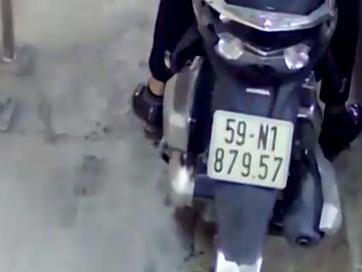num_plate: (206, 109, 293, 189)
